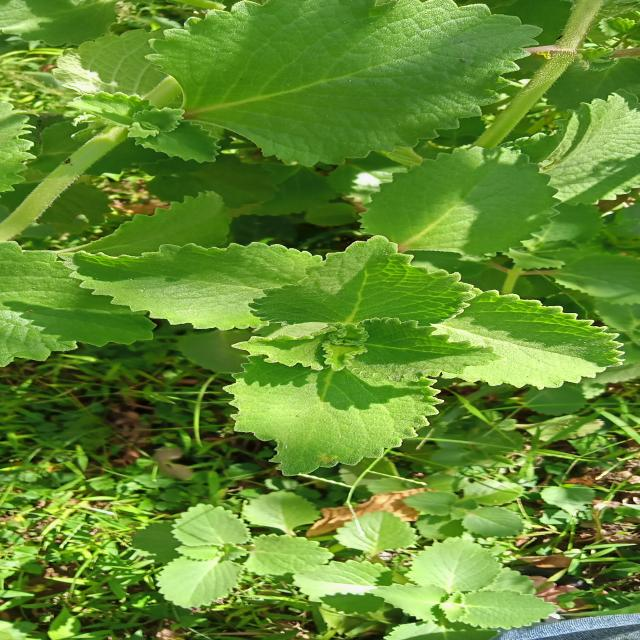Oregano: (55, 226, 640, 483), (83, 0, 609, 174), (101, 472, 578, 640)
